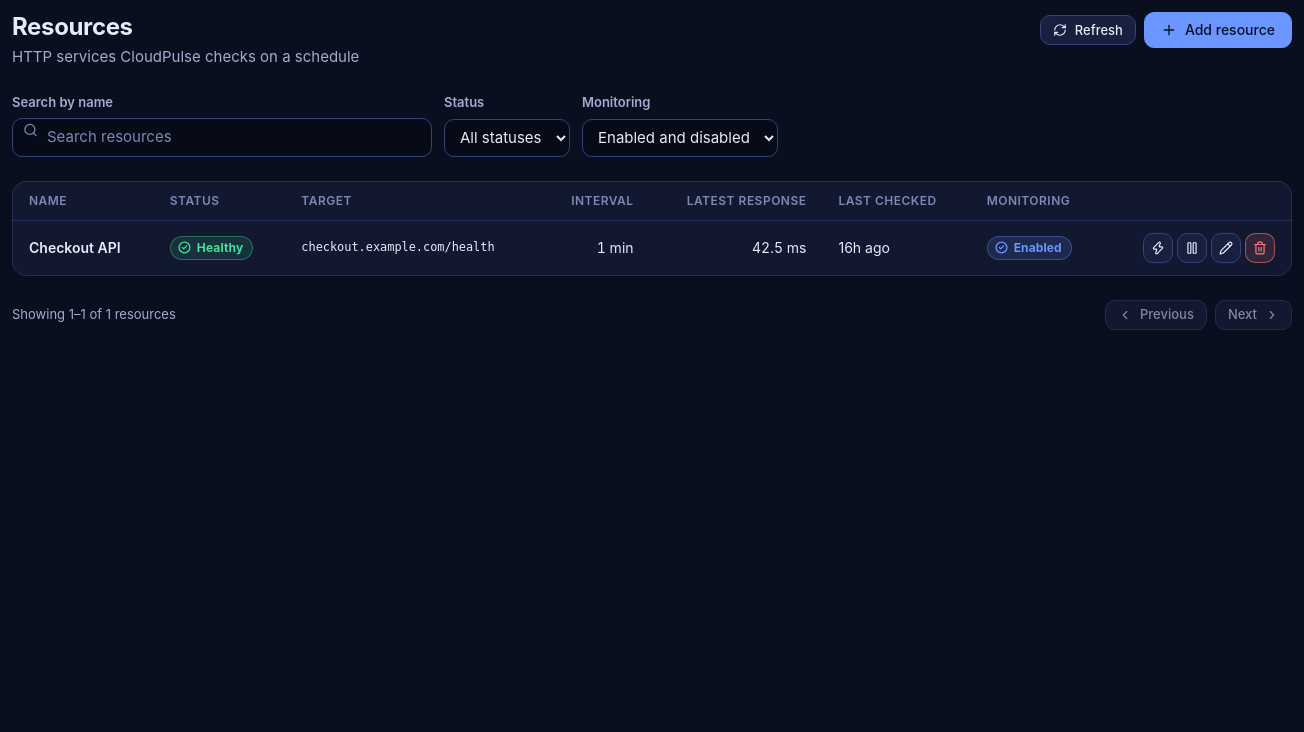
Test: ResourcesPage row actions › disables monitoring with a PATCH containing only is_enabled
The image size is (1304, 732).
expect the link "Checkout API" is shown: met, box x1=29 y1=239 x2=121 y2=256
Click the button named "Disable monitoring of Checkout API".
click(1192, 248)  # box x1=1177 y1=232 x2=1207 y2=262
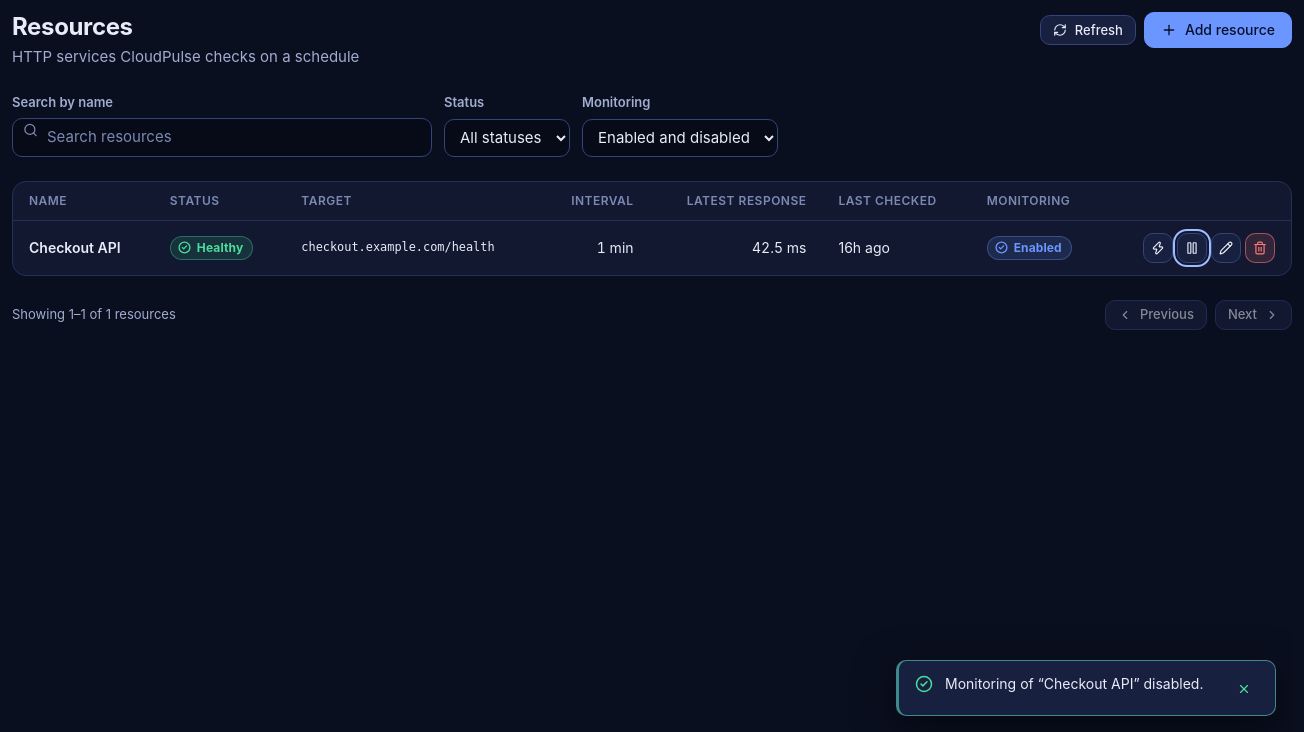
expect the text "Monitoring of “Checkout API” disabled." is shown: met, box x1=945 y1=673 x2=1217 y2=694
